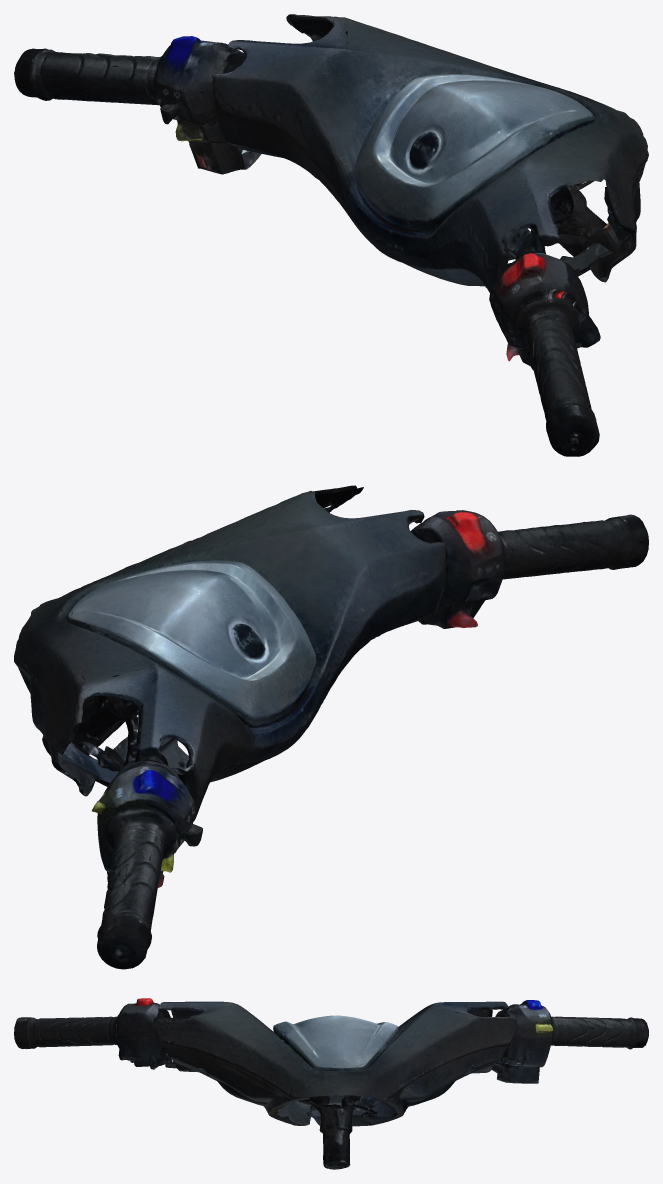
File: F05_assembled.obj
3 views of the same model, one above another, from view 1: azimuth 30°, elevation 25°; view 2: azimuth 150°, elevation 25°; view 3: azimuth 270°, elevation 25° (orthographic). The views are drawn at different scales.
Visible parts, largest first — view 1: [SA]_SA-F05-01; view 2: [SA]_SA-F05-01; view 3: [SA]_SA-F05-01.
Part boxes in pixels (left/top/right/bottom): [SA]_SA-F05-01: left=14, top=14, right=648, bottom=456; [SA]_SA-F05-01: left=14, top=485, right=648, bottom=969; [SA]_SA-F05-01: left=14, top=998, right=648, bottom=1169.
Bounding box in the file's own units: 0.2797 × 0.1519 × 0.7132.
Materials: 1 (1 with a texture image).
